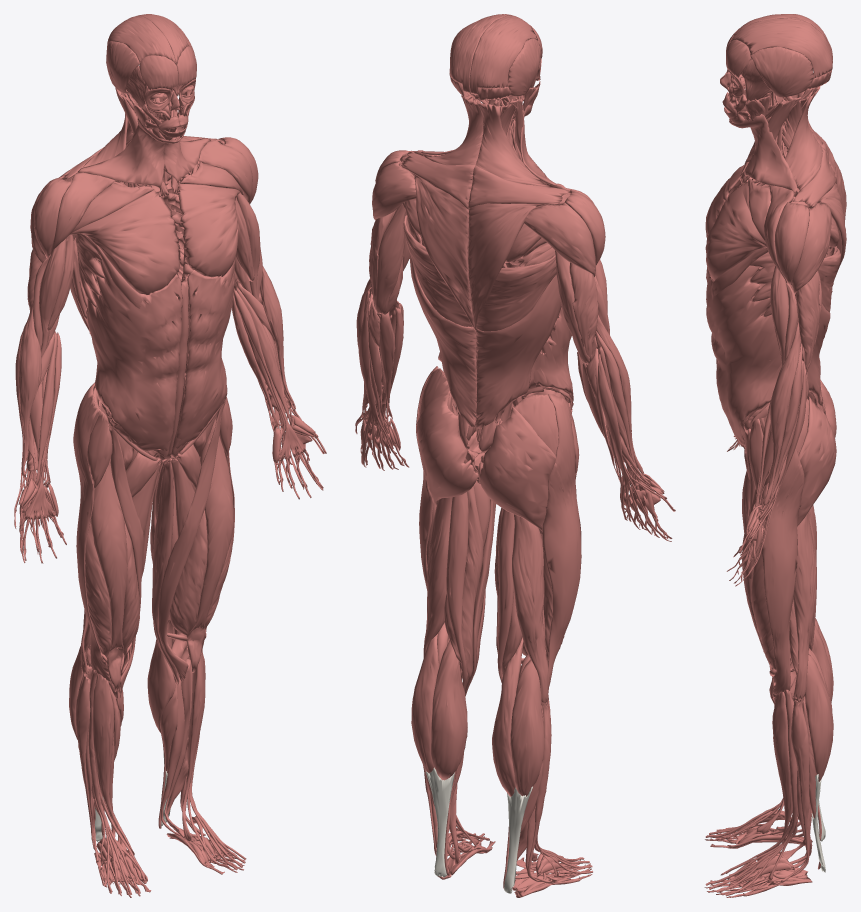
Rendered from muscular.glb.
3 renders of one model, left to right at view 1: azimuth 30°, elevation 25°; view 2: azimuth 150°, elevation 25°; view 3: azimuth 270°, elevation 25°, orthographic. The views are drawn at different scales.
Visible parts, largest first — view 1: external-oblique-right, pectoralis-major-right, quadriceps-femoris-right, quadriceps-femoris-left, external-oblique-left, pectoralis-major-left, facial-muscles-right, flexor-muscles-of-left-forearm, tensor-fasciae-latae-right, flexor-muscles-of-right-forearm, deltoid-right, sartorius-left (+34 smaller); view 2: latissimus-dorsi-right, trapezius-right, trapezius-left, tensor-fasciae-latae-right, gastrocnemius-left, gluteus-maximus-right, latissimus-dorsi-left, gastrocnemius-right, facial-muscles-right, extensor-muscles-of-right-forearm, biceps-femoris-right, gluteus-maximus-left (+30 smaller); view 3: external-oblique-left, facial-muscles-left, tensor-fasciae-latae-left, deltoid-left, pectoralis-major-left, trapezius-left, biceps-femoris-left, gluteus-maximus-left, extensor-muscles-of-left-forearm, gastrocnemius-left, platysma-left, quadriceps-femoris-left (+28 smaller).
Part boxes in pixels (bbox=[...]): external-oblique-right: bbox=[86, 260, 182, 460]; pectoralis-major-right: bbox=[70, 183, 180, 308]; quadriceps-femoris-right: bbox=[85, 444, 139, 691]; quadriceps-femoris-left: bbox=[167, 419, 233, 672]; external-oblique-left: bbox=[176, 266, 234, 454]; pectoralis-major-left: bbox=[178, 161, 243, 287]; facial-muscles-right: bbox=[106, 15, 179, 141]; flexor-muscles-of-left-forearm: bbox=[232, 281, 324, 499]; tensor-fasciae-latae-right: bbox=[73, 382, 112, 681]; flexor-muscles-of-right-forearm: bbox=[19, 331, 66, 563]; deltoid-right: bbox=[30, 172, 115, 262]; sartorius-left: bbox=[158, 400, 225, 682]; latissimus-dorsi-right: bbox=[475, 254, 561, 428]; trapezius-right: bbox=[468, 103, 569, 330]; trapezius-left: bbox=[401, 97, 483, 330]; tensor-fasciae-latae-right: bbox=[542, 394, 581, 688]; gastrocnemius-left: bbox=[411, 634, 467, 780]; gluteus-maximus-right: bbox=[478, 406, 555, 531]; latissimus-dorsi-left: bbox=[403, 215, 476, 426]; gastrocnemius-right: bbox=[492, 637, 544, 796]; facial-muscles-right: bbox=[469, 15, 542, 107]; extensor-muscles-of-right-forearm: bbox=[586, 331, 675, 541]; biceps-femoris-right: bbox=[512, 514, 549, 703]; gluteus-maximus-left: bbox=[416, 391, 478, 505]; external-oblique-left: bbox=[706, 265, 781, 453]; facial-muscles-left: bbox=[720, 18, 832, 123]; tensor-fasciae-latae-left: bbox=[748, 415, 804, 695]; deltoid-left: bbox=[764, 185, 831, 294]; pectoralis-major-left: bbox=[705, 178, 770, 295]; trapezius-left: bbox=[785, 86, 846, 279]; biceps-femoris-left: bbox=[789, 511, 816, 700]; gluteus-maximus-left: bbox=[797, 396, 836, 526]; extensor-muscles-of-left-forearm: bbox=[735, 343, 808, 586]; gastrocnemius-left: bbox=[805, 648, 833, 781]; platysma-left: bbox=[729, 114, 797, 192]; quadriceps-femoris-left: bbox=[742, 489, 794, 703].
Bounding box in the file's own units: 0.6598 × 1.7 × 0.2585.
